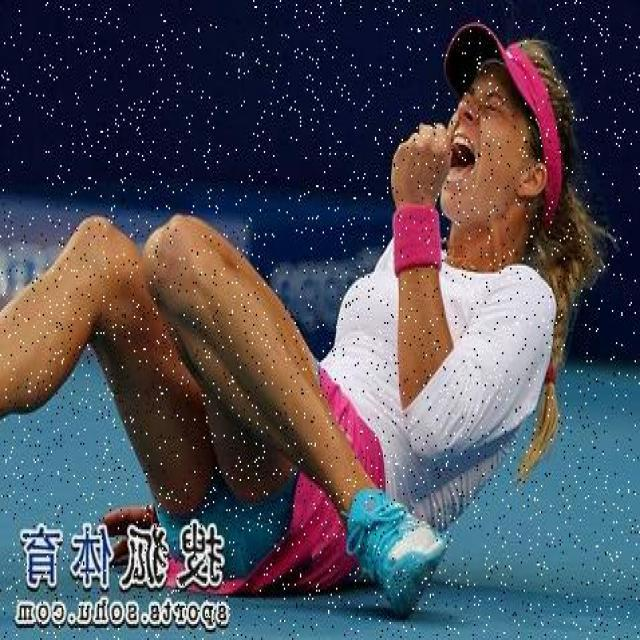fall: (27, 48, 580, 503)
